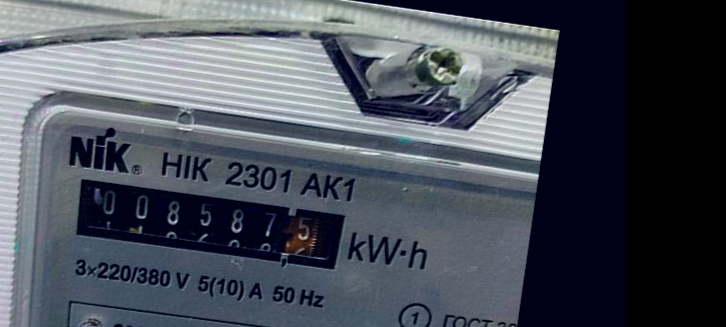0: (98, 185, 119, 217), (131, 191, 152, 221)
5: (195, 199, 216, 230), (294, 214, 315, 245)
7: (258, 207, 279, 240)
8: (226, 204, 247, 236), (163, 197, 183, 227)
screen: (53, 160, 364, 285)
